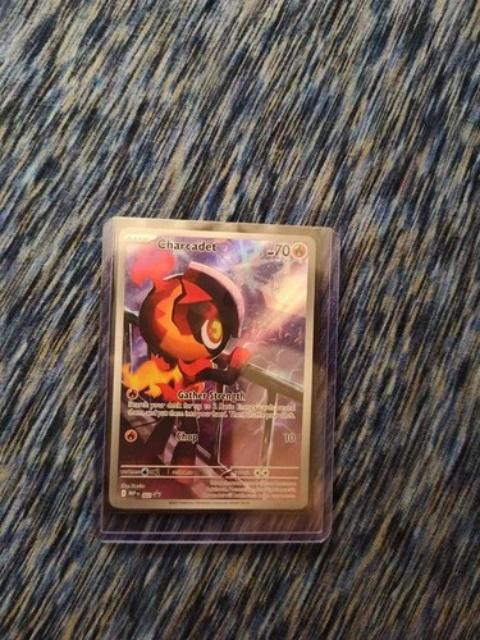Card: (104, 225, 317, 509)
Name: (155, 229, 232, 259)
